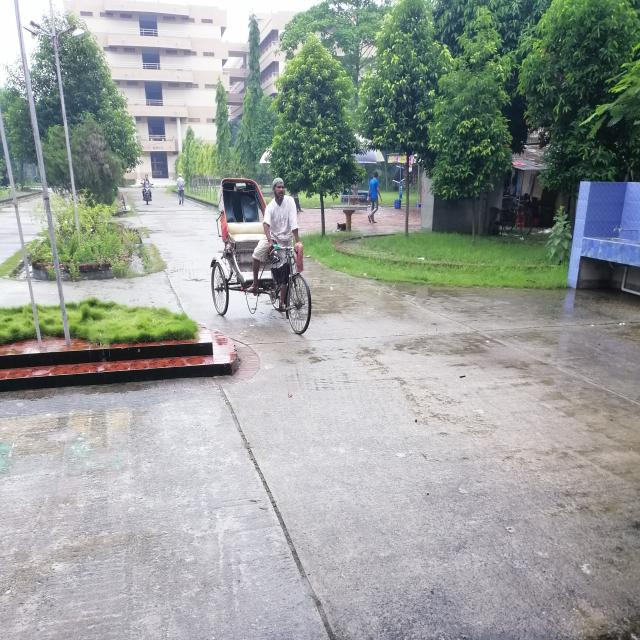Rickshaw: (186, 154, 347, 353)
